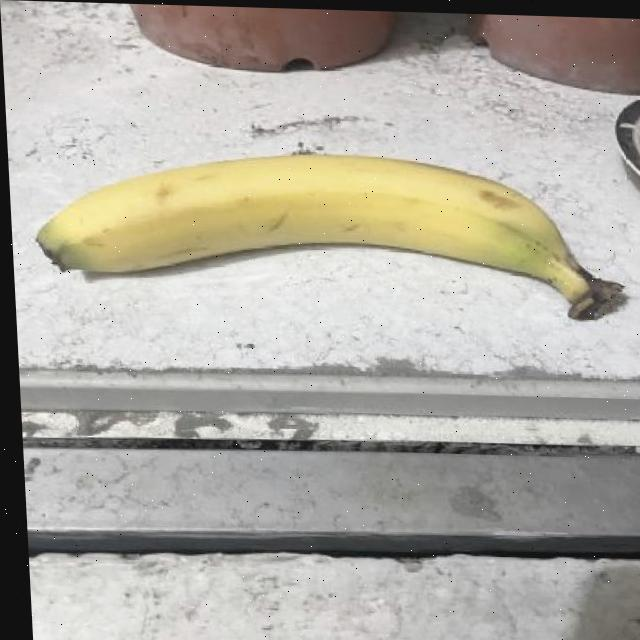banana: (31, 139, 627, 325)
